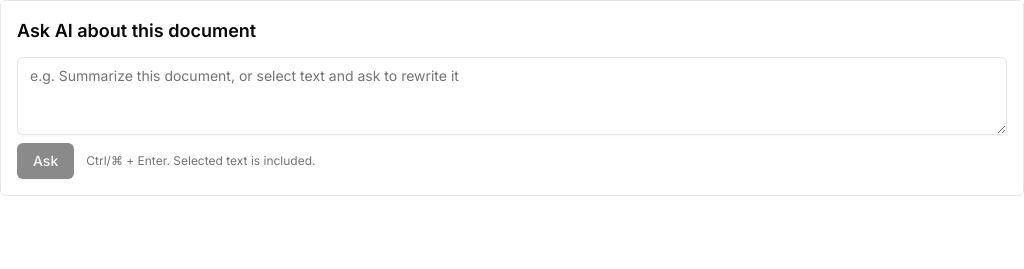
Test: shows an error message when the request fails
Replace the text in the text box with "Summarize this" at point(512, 96), box left=17, top=57, right=1007, bottom=135
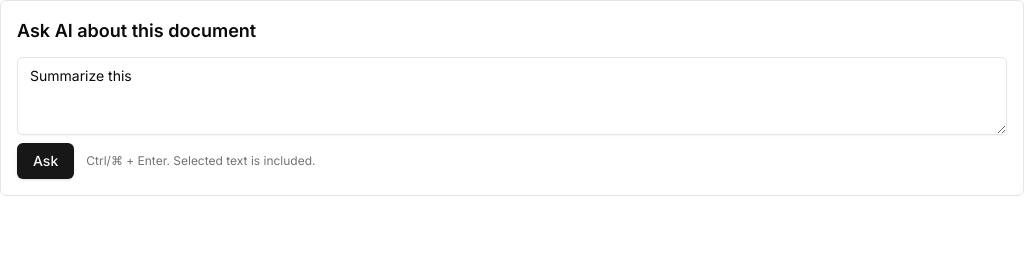
Click the button "Ask".
click(46, 161)  # box left=17, top=143, right=74, bottom=179
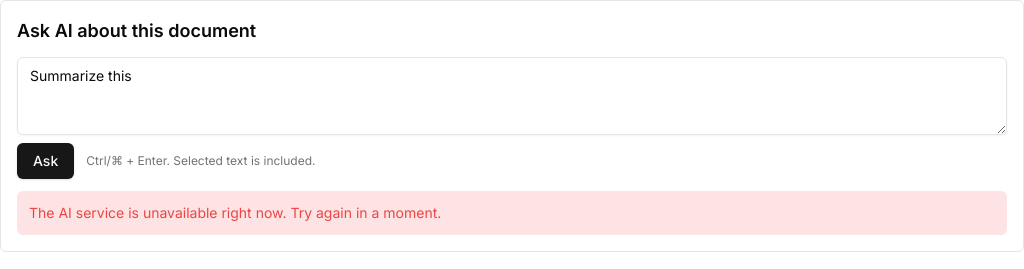
Now the text "AI service is unavailable" is shown, box left=29, top=204, right=441, bottom=221
